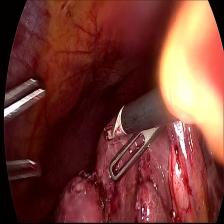Grasper: (6, 56, 57, 191), (104, 133, 158, 191)
Hook: (101, 105, 124, 145)
